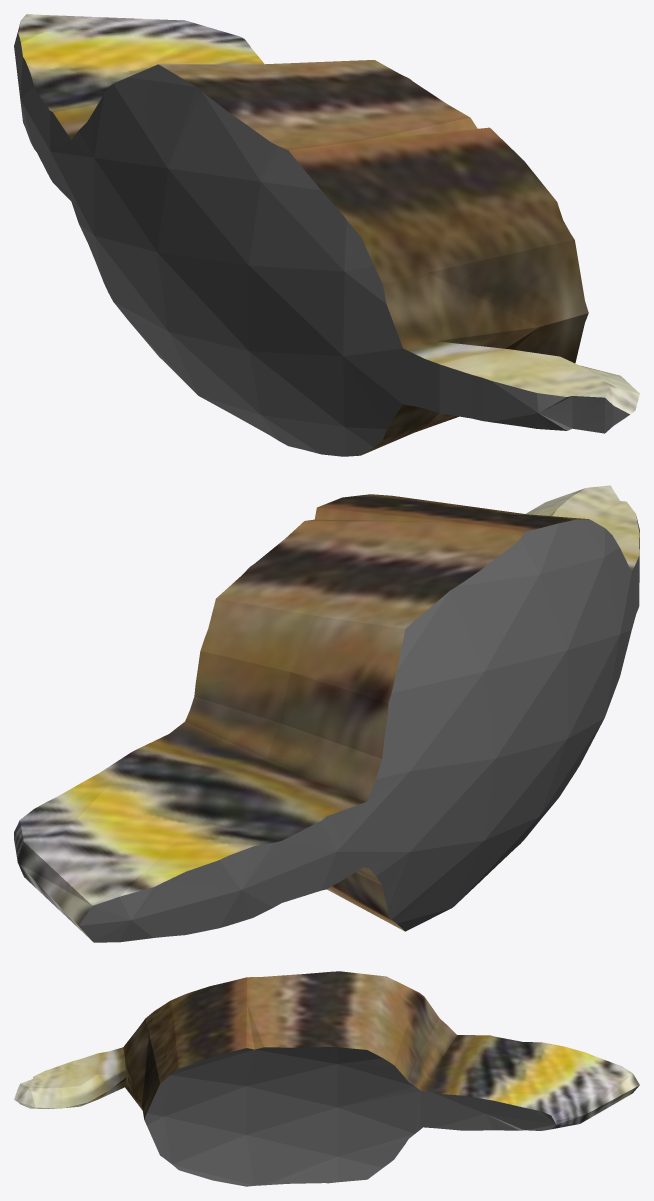
3 renders of one model, top to bottom at view 1: azimuth 30°, elevation 25°; view 2: azimuth 150°, elevation 25°; view 3: azimuth 270°, elevation 25°, orthographic. The views are drawn at different scales.
Visible parts, largest first — view 1: link_10_visual; view 2: link_10_visual; view 3: link_10_visual.
Boxes of the visible parts, bbox=[...] form: link_10_visual: bbox=[14, 14, 639, 456]; link_10_visual: bbox=[14, 485, 639, 942]; link_10_visual: bbox=[14, 971, 639, 1186].
Bounding box in the file's own units: 0.00109 × 0.00118 × 0.00382.
2 materials, 2 textured.
